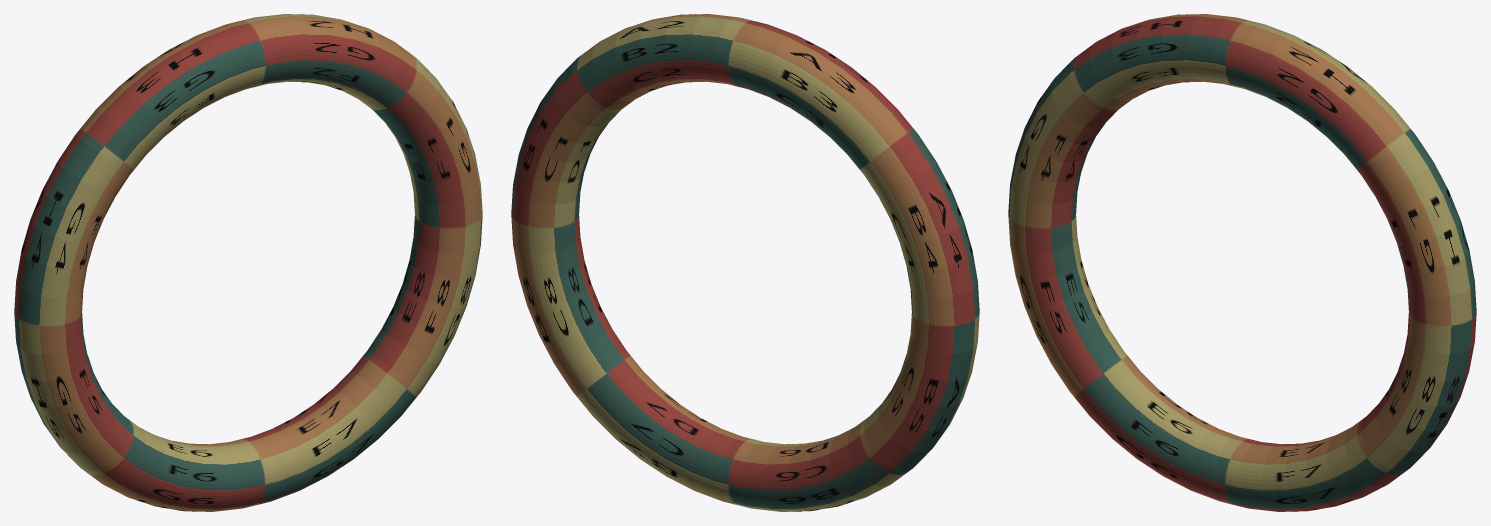
The model's file is texture_torus_R30_r9.glb.
The picture shows the model from 3 angles, left to right: view 1: azimuth 30°, elevation 25°; view 2: azimuth 150°, elevation 25°; view 3: azimuth 330°, elevation 25°; orthographic projection.
Parts seen in each view (by area): view 1: world; view 2: world; view 3: world.
Part boxes in pixels (x1,y1,x2,y2): world: [14, 14, 482, 511]; world: [511, 14, 979, 511]; world: [1008, 14, 1476, 511].
Size of the model in its own units: 34.4 by 34.33 by 4.39.
Materials: 1 (1 with a texture image).
